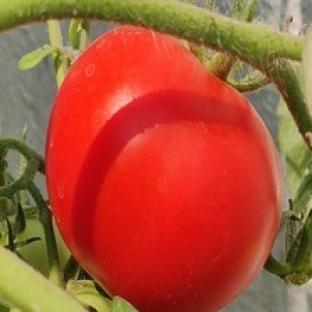Tomato: (46, 27, 281, 311)
